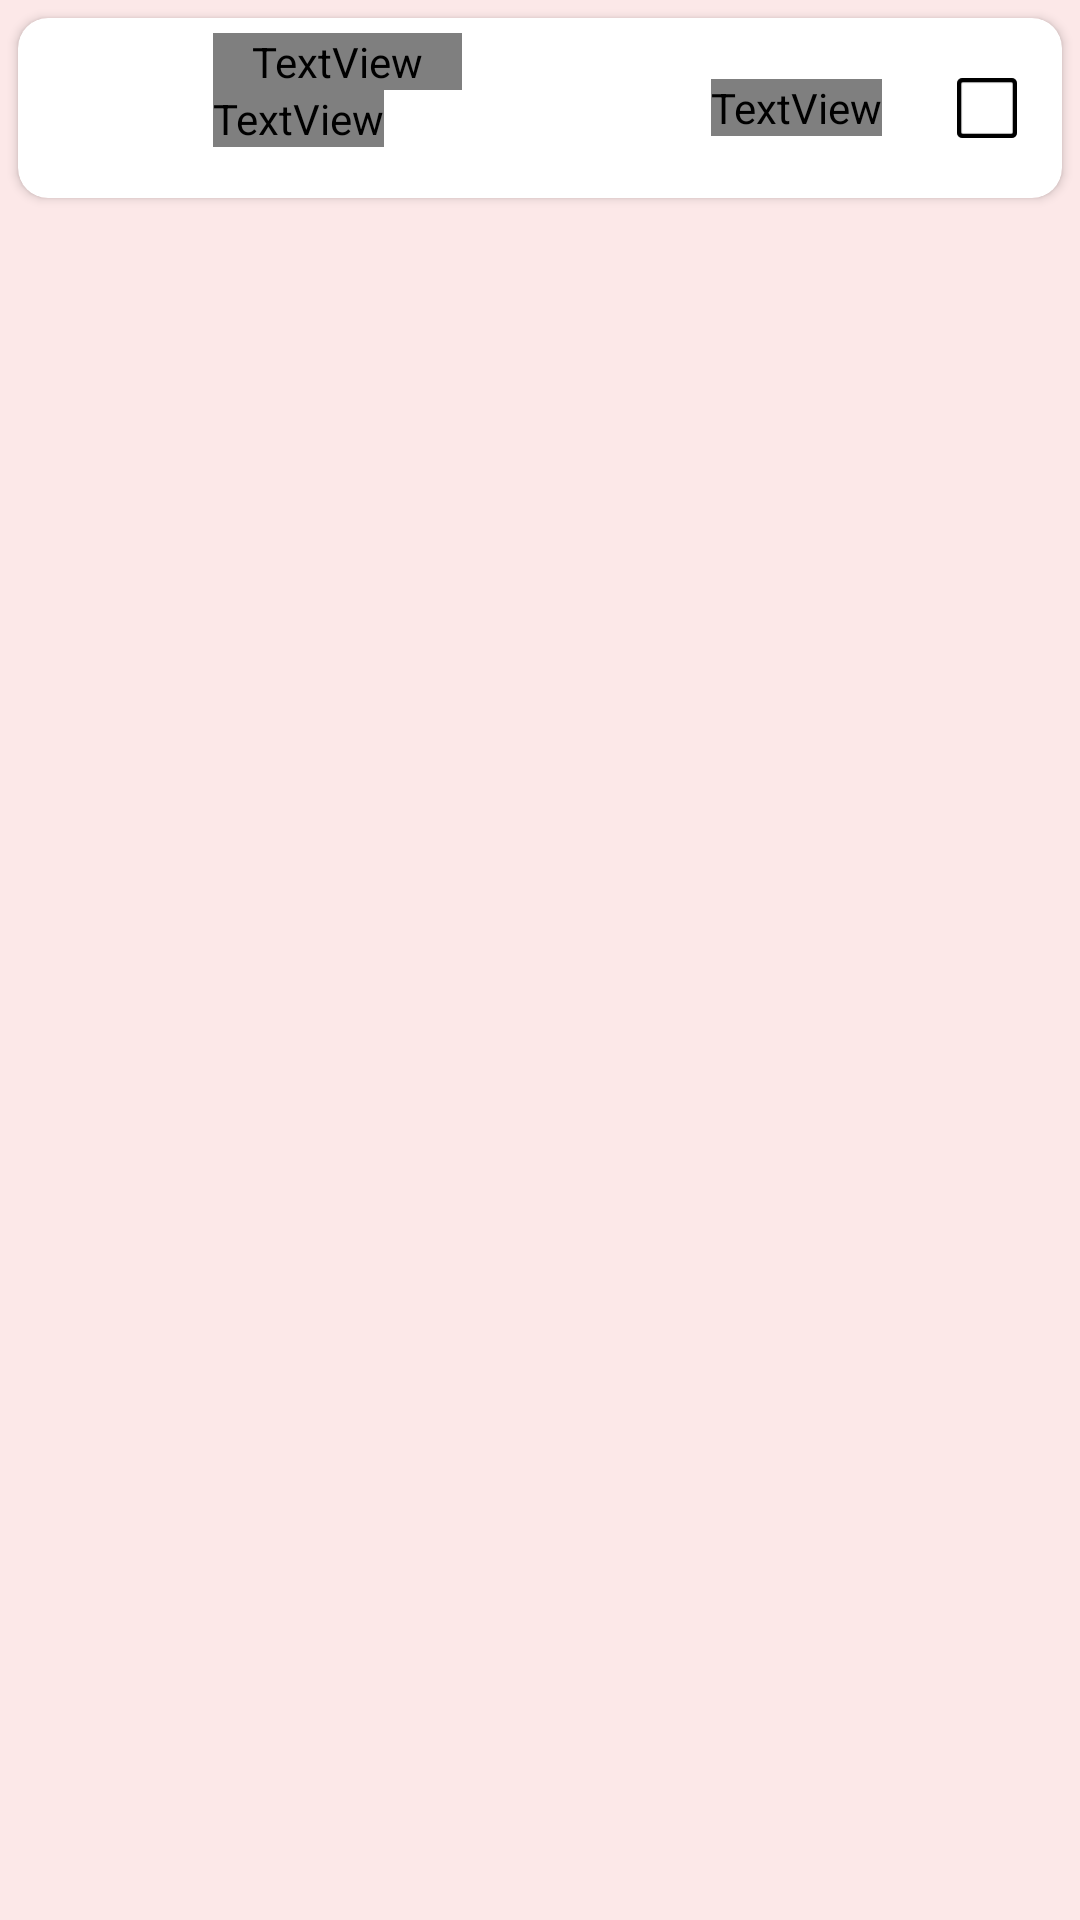

Screen size 1080w x 1920h. Icon name, then its center in pixels as [x,y]:
unchecked: [987,108]
